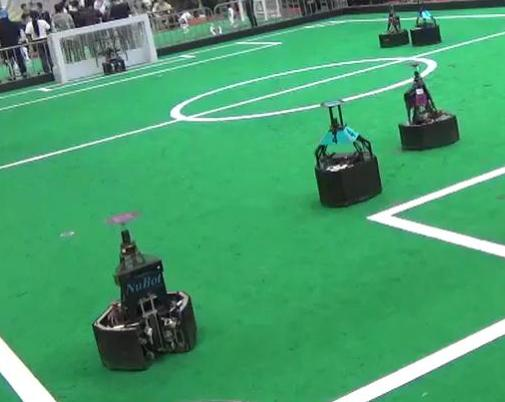robot: (86, 206, 199, 377), (306, 96, 386, 210), (394, 60, 465, 152)
